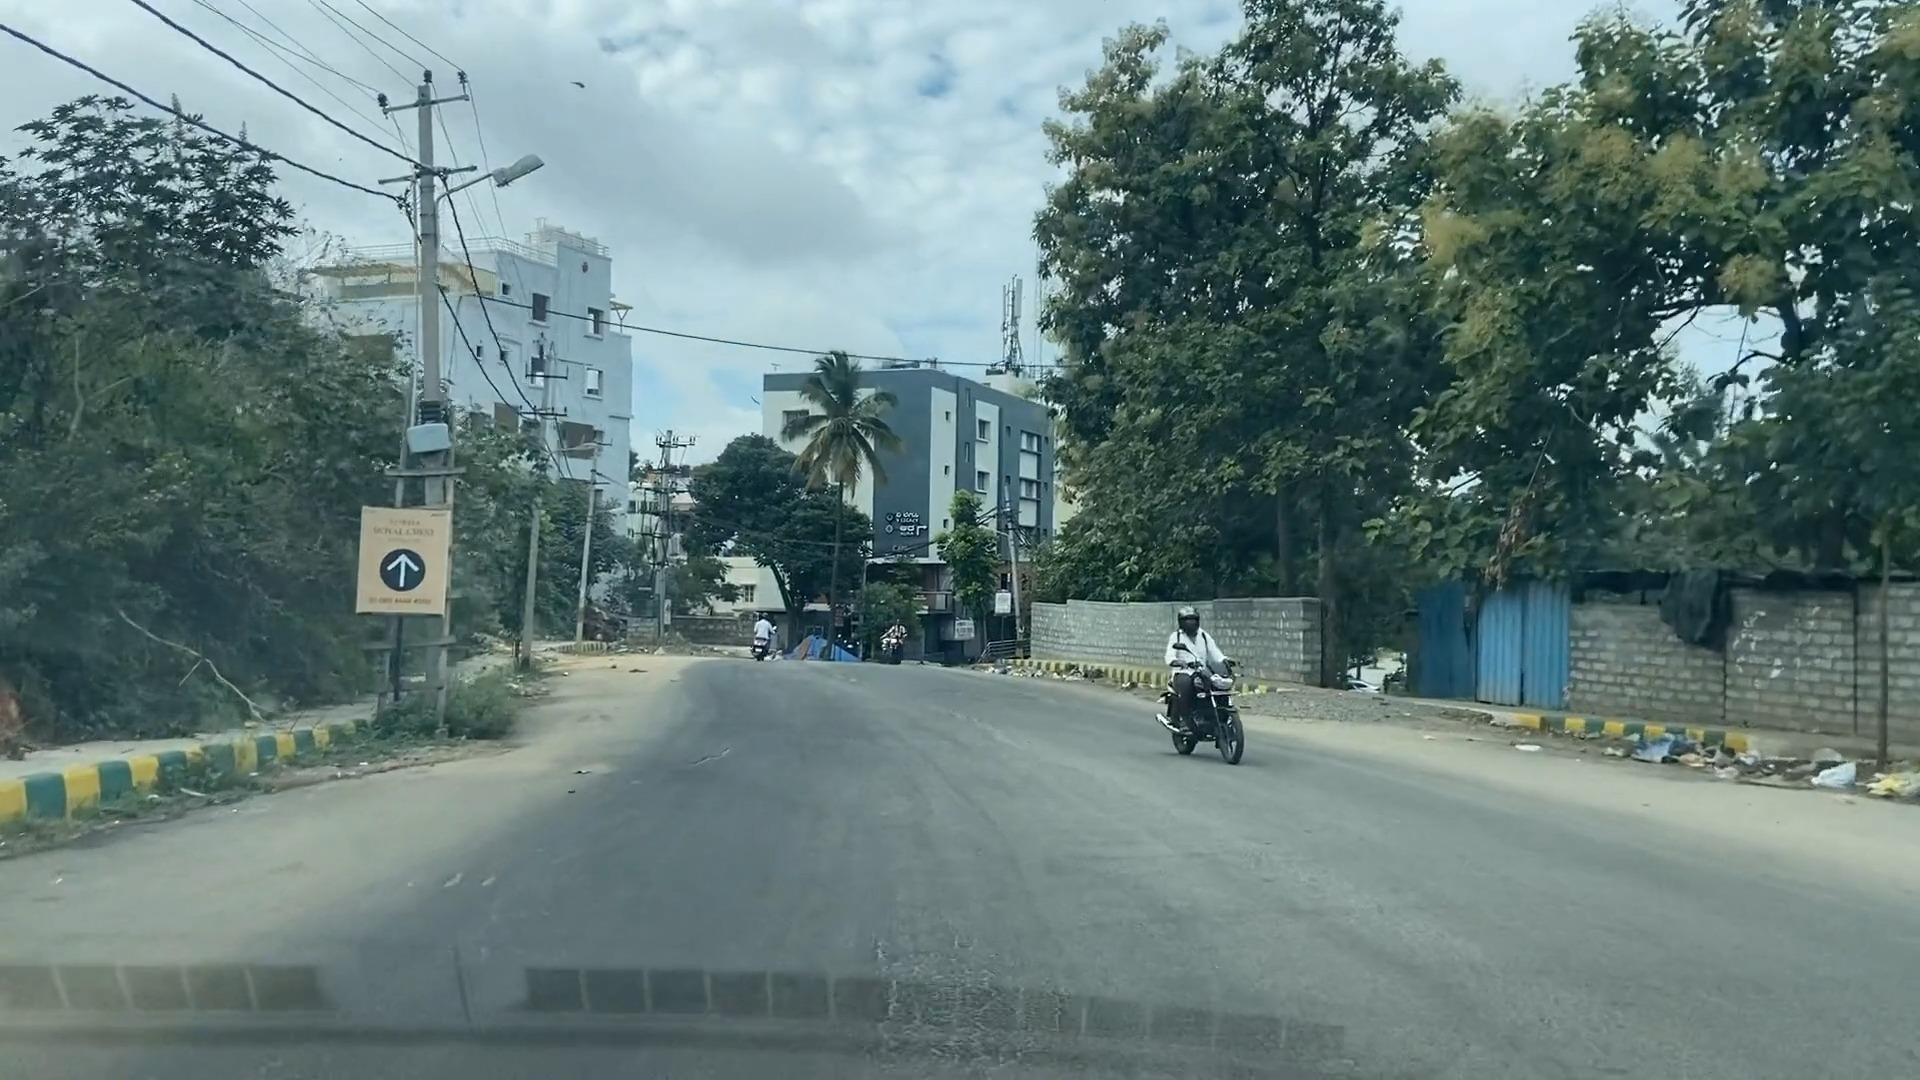LMV: (1117, 560, 1287, 773)
RoadDamages: (724, 894, 1108, 1080)
